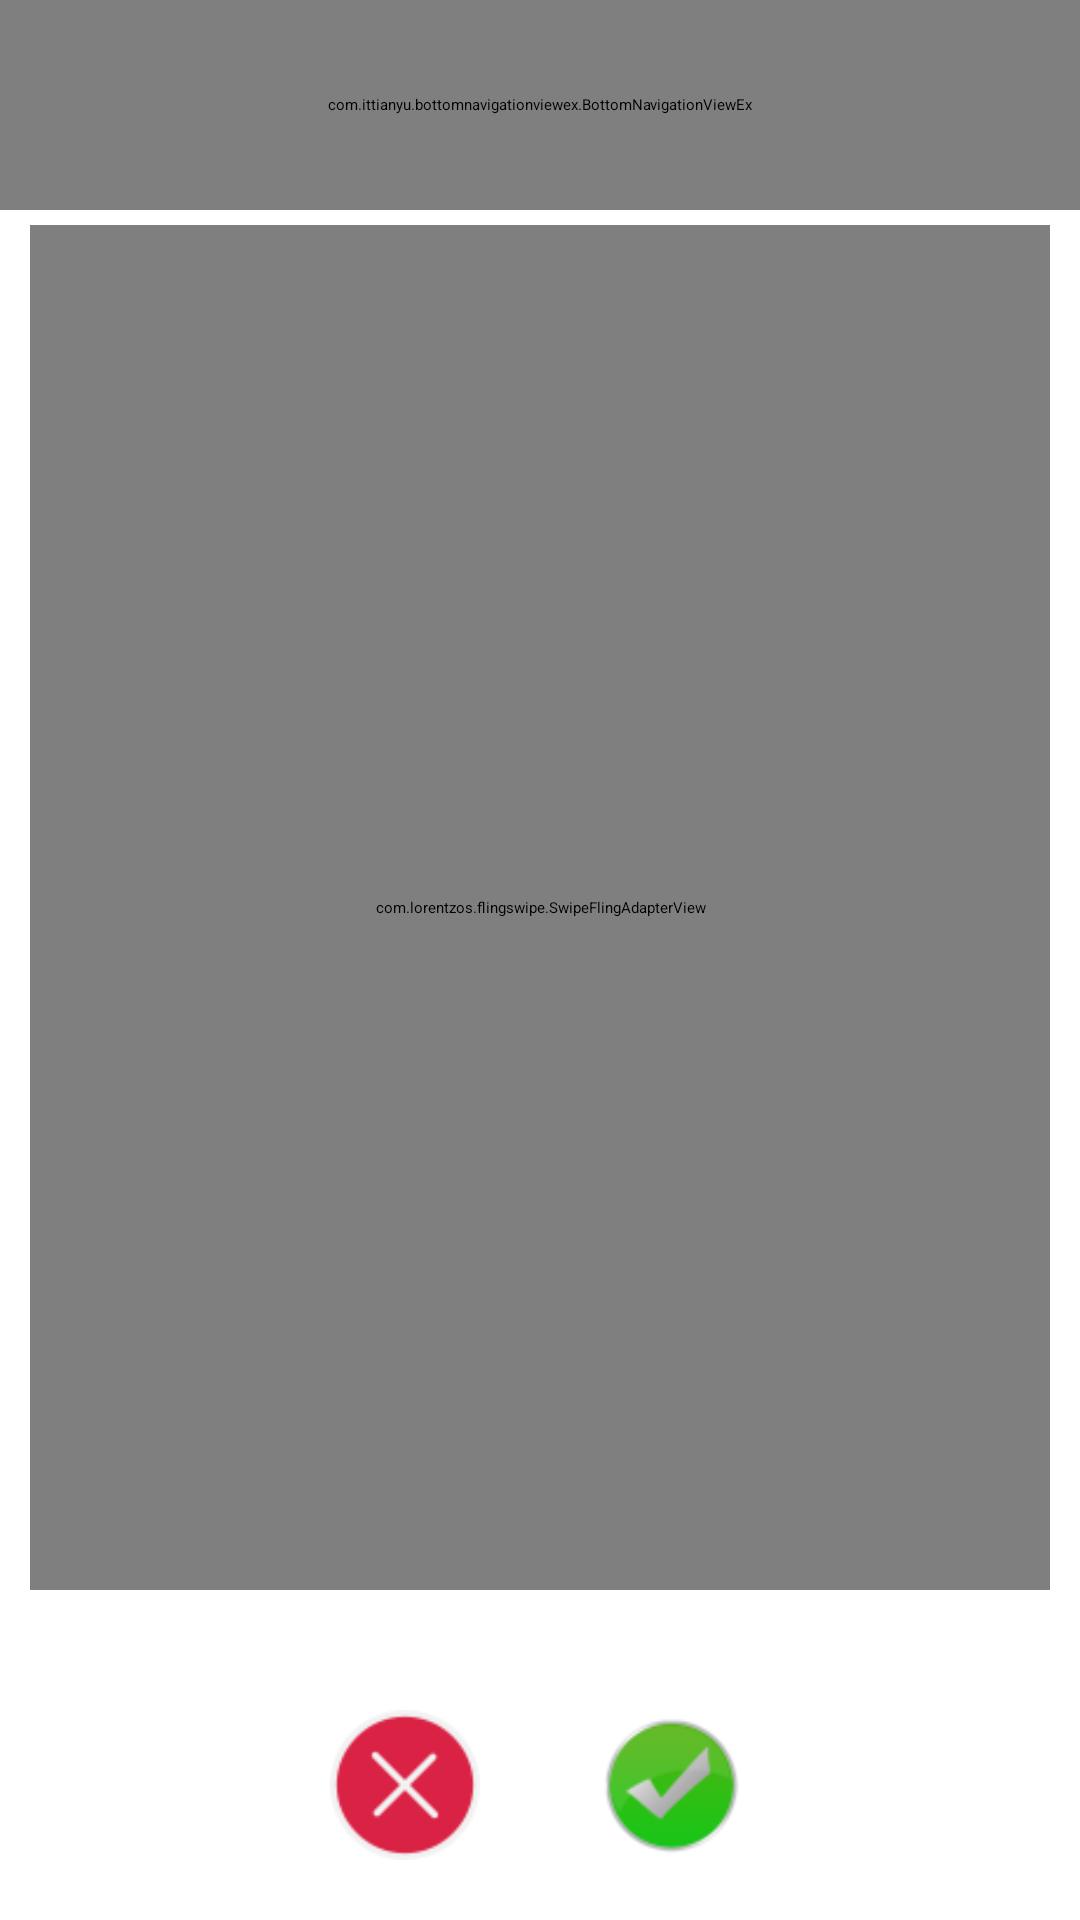

Icon click points for this 1080 × 1920 phone screenshot, format point (x, y):
dislike: point (404, 1785)
like: point (672, 1785)
